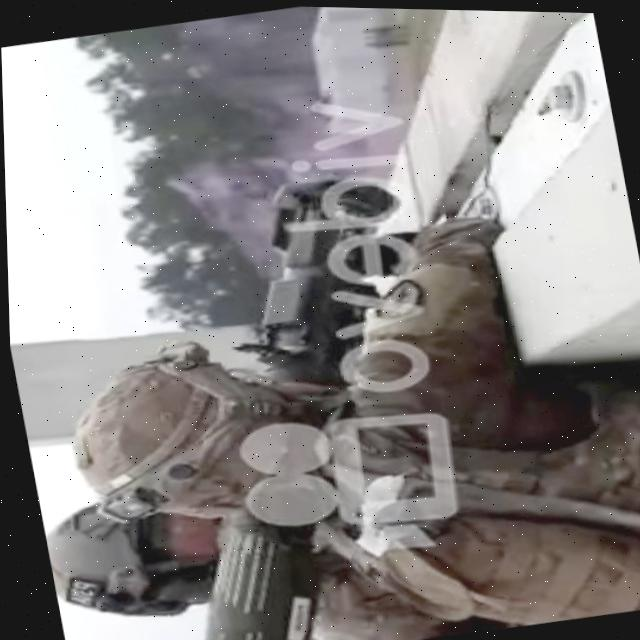rocket: (111, 150, 463, 640)
